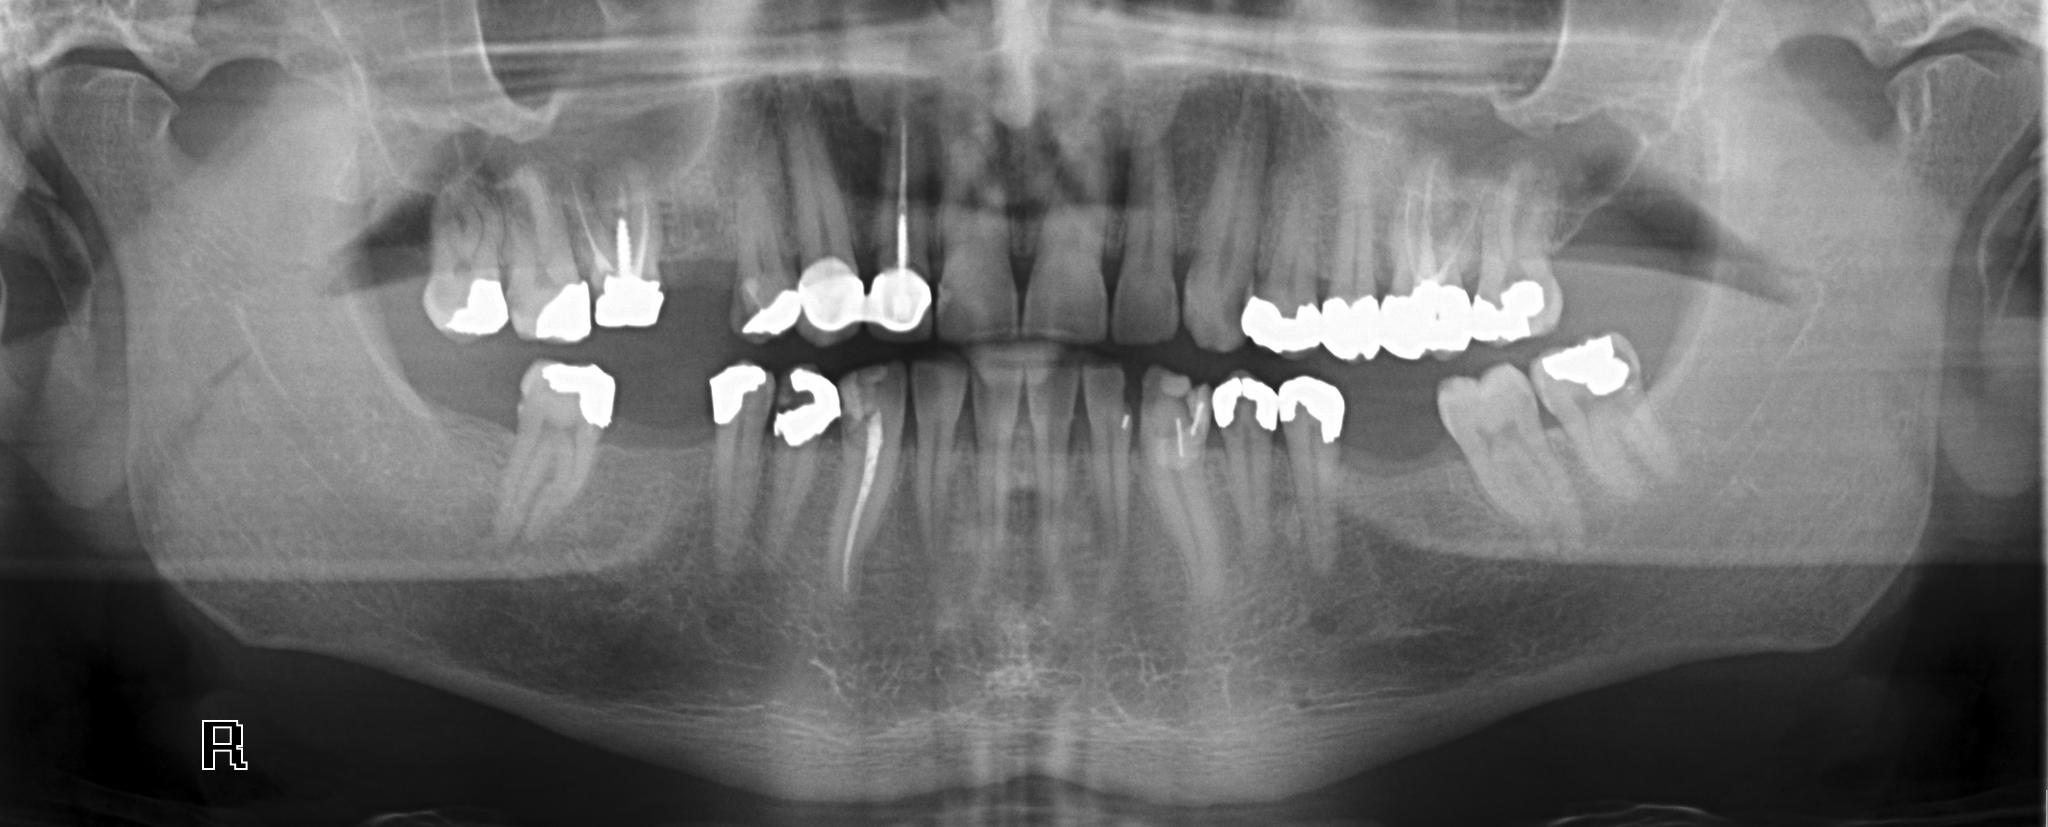Cavity: (200, 719, 240, 771)
Fillings: (487, 359, 618, 542), (1529, 331, 1665, 494), (691, 362, 790, 572), (1471, 167, 1569, 346), (1271, 372, 1349, 577), (790, 144, 866, 340), (502, 179, 592, 344), (1240, 179, 1322, 355), (419, 186, 505, 341), (1319, 182, 1384, 362)
Implant: (816, 346, 913, 601), (1378, 169, 1479, 361), (865, 119, 939, 342), (577, 175, 669, 331)
